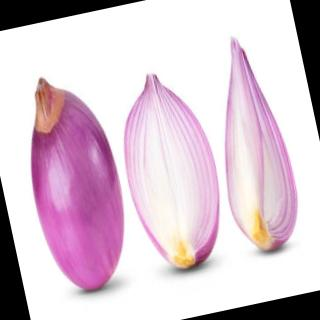Bawang Merah: (6, 62, 146, 304), (102, 57, 241, 286), (192, 26, 316, 265)
